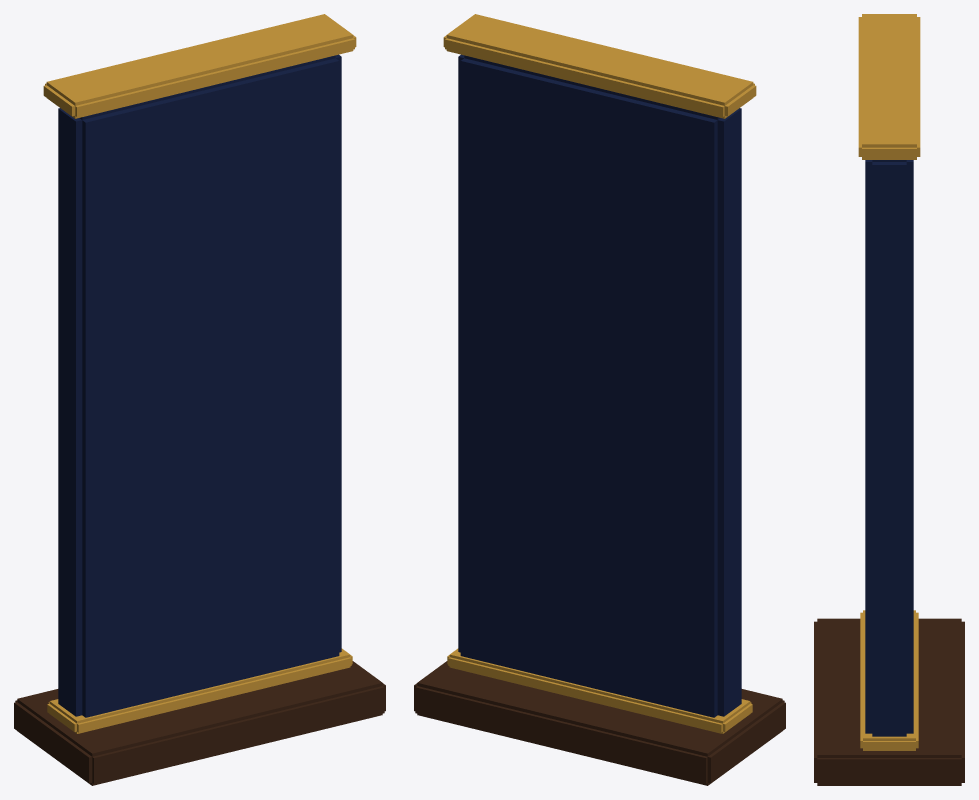
The model's file is totem.glb.
3 views of the same model, side by side, from view 1: azimuth 30°, elevation 25°; view 2: azimuth 150°, elevation 25°; view 3: azimuth 270°, elevation 25° (orthographic). The views are drawn at different scales.
Visible parts, largest first — view 1: totem_navy, totem_wood_dark, totem_brass; view 2: totem_navy, totem_wood_dark, totem_brass; view 3: totem_navy, totem_wood_dark, totem_brass.
Part boxes in pixels (box(x1,y1,x2,y2)): totem_navy: box(58, 54, 341, 717); totem_wood_dark: box(14, 661, 385, 785); totem_brass: box(43, 14, 356, 733); totem_navy: box(458, 54, 741, 717); totem_wood_dark: box(414, 661, 785, 785); totem_brass: box(443, 14, 756, 733); totem_navy: box(865, 160, 913, 736); totem_wood_dark: box(814, 618, 964, 785); totem_brass: box(858, 14, 920, 750).
Bounding box in the file's own units: 0.96 × 2.06 × 0.44.
